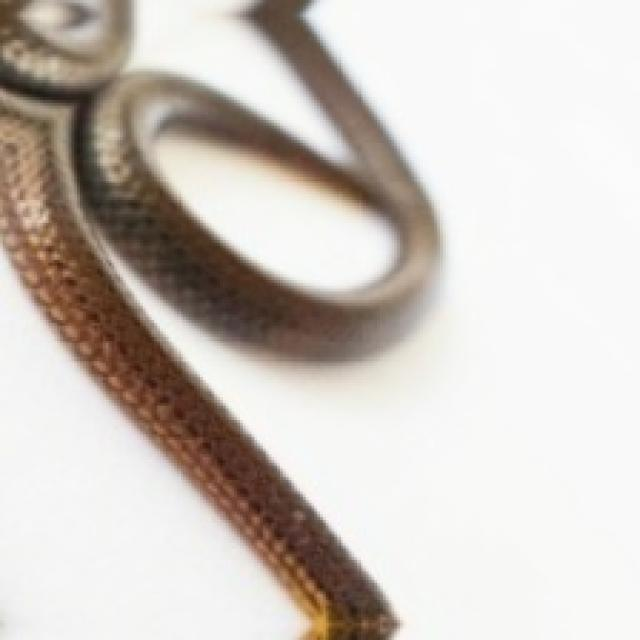gervais worm snake: (0, 0, 434, 637)
